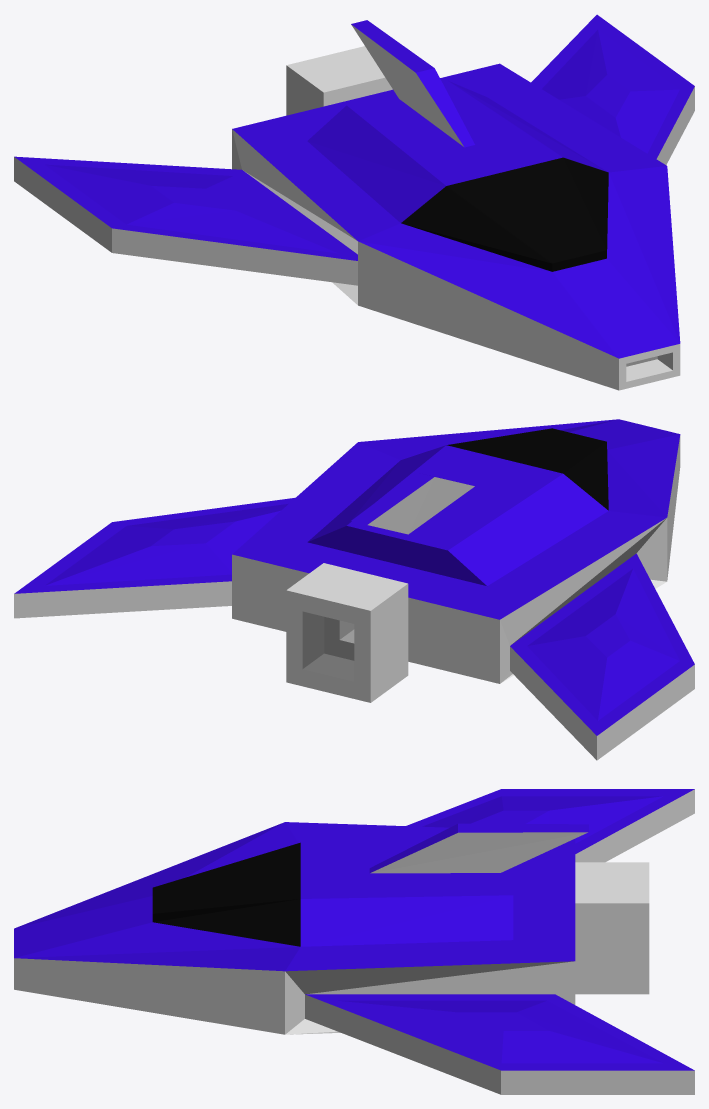
File: B_Spaceship_3_Blue_OLD.fbx
The picture shows the model from 3 angles, top to bottom: view 1: azimuth 30°, elevation 25°; view 2: azimuth 150°, elevation 25°; view 3: azimuth 270°, elevation 25°; orthographic projection.
Visible parts, largest first — view 1: pCube1; view 2: pCube1; view 3: pCube1.
Boxes of the visible parts, <box> form: pCube1: <box>14,14,694,390</box>; pCube1: <box>14,419,694,760</box>; pCube1: <box>14,789,694,1094</box>.
Bounding box in the file's own units: 0.0727 × 0.0743 × 0.0185.
